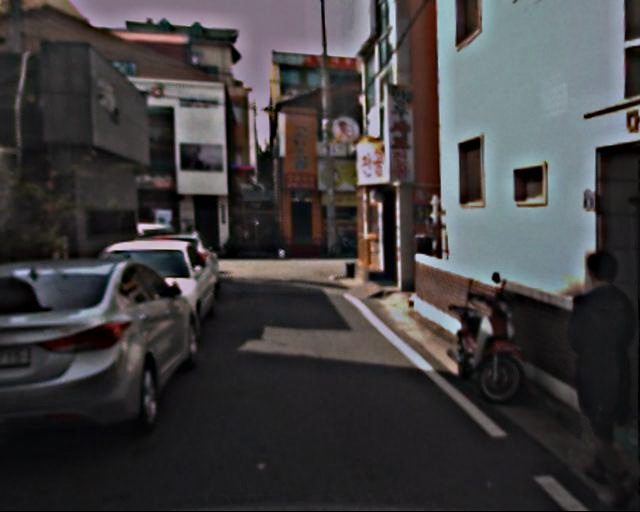person: (544, 250, 640, 499)
